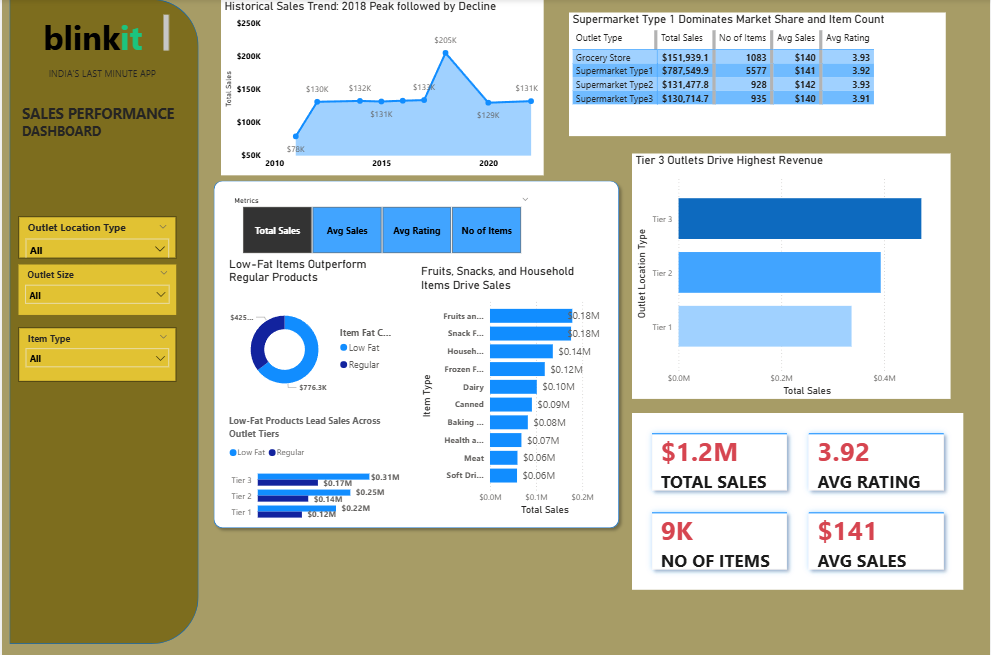

Layout of this report page (visuals, bound fields, positions):
{"tool":"powerbi","page":{"name":"Sales Overview","canvas":[1450,974],"ordinal":0},"visuals":[{"type":"shape","box":[11,0,277.2,946.2],"z":0},{"type":"textbox","box":[23.5,18.1,225.9,75.9],"z":1000},{"type":"cardVisual","fields":{"Data":["BlinkIT Grocery Data.Total Sales","BlinkIT Grocery Data.Avg Rating","BlinkIT Grocery Data.No of Items","BlinkIT Grocery Data.Avg Sales"]},"box":[924.1,607.3,486.3,259.6],"z":2000},{"type":"shape","box":[301.8,258.4,612.7,527.7],"z":3000},{"type":"slicer","fields":{"Values":["Metrics.Metrics"]},"box":[328.9,283.7,457.2,95.8],"z":4000},{"type":"donutChart","title":"Low-Fat Items Outperform Regular Products","fields":{"Y":["BlinkIT Grocery Data.Total Sales"],"Category":["BlinkIT Grocery Data.Item Fat Content"]},"box":[328.9,379.5,256.6,229.5],"z":5000},{"type":"clusteredBarChart","title":"Low-Fat Products Lead Sales Across Outlet Tiers","fields":{"Y":["BlinkIT Grocery Data.Total Sales"],"Category":["BlinkIT Grocery Data.Outlet Location Type"],"Series":["BlinkIT Grocery Data.Item Fat Content"]},"box":[328.9,609.1,260.2,166.3],"z":6000},{"type":"barChart","title":"Fruits, Snacks, and Household Items Drive Sales","fields":{"Y":["BlinkIT Grocery Data.Total Sales"],"Category":["BlinkIT Grocery Data.Item Type"]},"box":[609.1,388.6,289.2,372.3],"z":7000},{"type":"lineChart","title":"Historical Sales Trend: 2018 Peak followed by Decline","fields":{"Y":["BlinkIT Grocery Data.Total Sales"],"Category":["BlinkIT Grocery Data.Outlet Establishment Year"]},"box":[321.7,0,473.5,258.4],"z":8000},{"type":"barChart","title":"Tier 3 Outlets Drive Highest Revenue","fields":{"Category":["BlinkIT Grocery Data.Outlet Location Type"],"Y":["BlinkIT Grocery Data.Total Sales"]},"box":[924.7,226.4,467.1,359.9],"z":9000},{"type":"pivotTable","title":"Supermarket Type 1 Dominates Market Share and Item Count","fields":{"Rows":["BlinkIT Grocery Data.Outlet Type"],"Values":["BlinkIT Grocery Data.Total Sales","BlinkIT Grocery Data.No of Items","BlinkIT Grocery Data.Avg Sales","BlinkIT Grocery Data.Avg Rating"]},"box":[831.8,19.1,552.9,181.1],"z":10000},{"type":"slicer","fields":{"Values":["BlinkIT Grocery Data.Outlet Location Type"]},"box":[23.5,318.1,231.3,61.4],"z":11000},{"type":"slicer","fields":{"Values":["BlinkIT Grocery Data.Outlet Size"]},"box":[23.5,388.6,231.3,74.1],"z":12000},{"type":"slicer","fields":{"Values":["BlinkIT Grocery Data.Item Type"]},"box":[23.5,482.5,231.3,79.5],"z":13000},{"type":"textbox","box":[23.5,94,245.8,52.4],"z":14000},{"type":"textbox","box":[23.5,146.4,245.8,159],"z":15000}]}

Visuals, with their boxes in screenshot pixels (x1, y1, x2, y2), scaled from the page's 1450x974 canvas onto the 991x655 screenshot:
shape: bbox(8, 0, 197, 636)
textbox: bbox(16, 12, 170, 63)
cardVisual - BlinkIT Grocery Data.Total Sales x BlinkIT Grocery Data.Avg Rating: bbox(632, 408, 964, 583)
shape: bbox(206, 174, 625, 529)
slicer - Metrics.Metrics: bbox(225, 191, 537, 255)
"Low-Fat Items Outperform Regular Products" donutChart: bbox(225, 255, 400, 410)
"Low-Fat Products Lead Sales Across Outlet Tiers" clusteredBarChart: bbox(225, 410, 403, 521)
"Fruits, Snacks, and Household Items Drive Sales" barChart: bbox(416, 261, 614, 512)
"Historical Sales Trend: 2018 Peak followed by Decline" lineChart: bbox(220, 0, 543, 174)
"Tier 3 Outlets Drive Highest Revenue" barChart: bbox(632, 152, 951, 394)
"Supermarket Type 1 Dominates Market Share and Item Count" pivotTable: bbox(568, 13, 946, 135)
slicer - BlinkIT Grocery Data.Outlet Location Type: bbox(16, 214, 174, 255)
slicer - BlinkIT Grocery Data.Outlet Size: bbox(16, 261, 174, 311)
slicer - BlinkIT Grocery Data.Item Type: bbox(16, 324, 174, 378)
textbox: bbox(16, 63, 184, 98)
textbox: bbox(16, 98, 184, 205)
